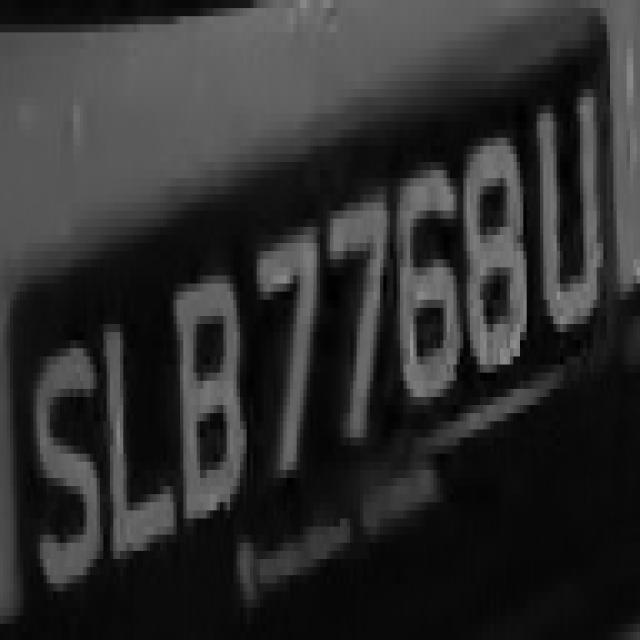6: (390, 162, 470, 429)
7: (314, 186, 394, 486), (244, 219, 324, 470)
8: (453, 138, 537, 372)
B: (164, 276, 244, 526)
L: (100, 292, 177, 551)
S: (23, 340, 100, 608)
U: (530, 65, 600, 348)
